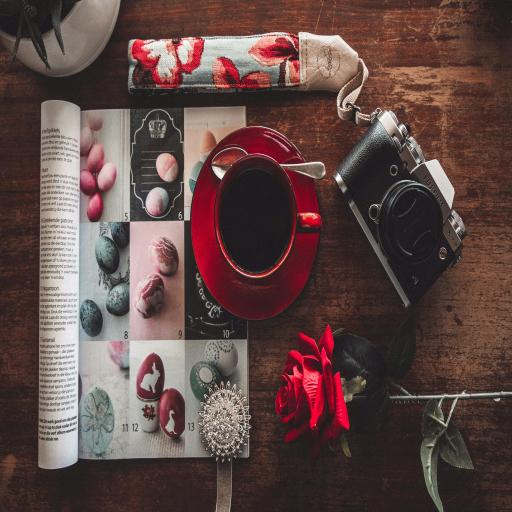phone: (214, 153, 322, 283)
